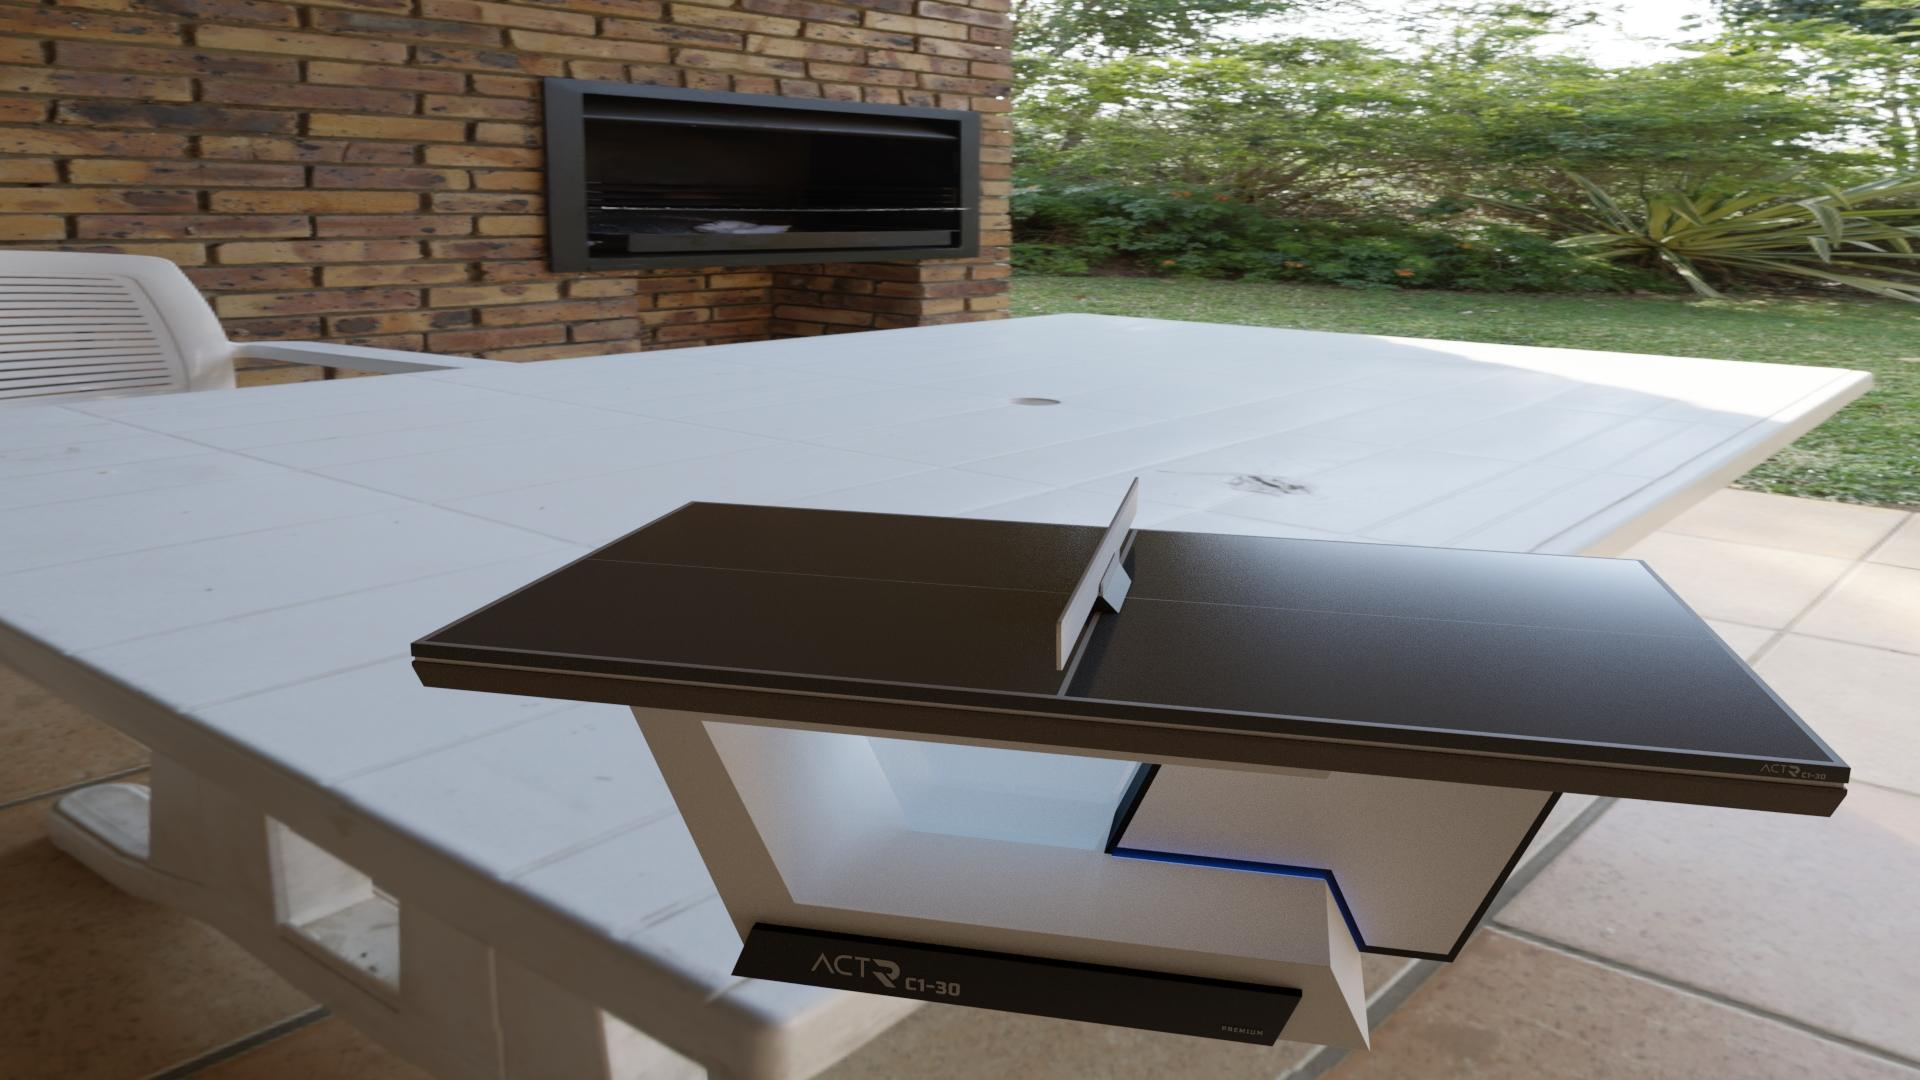table: (423, 502, 1834, 762)
